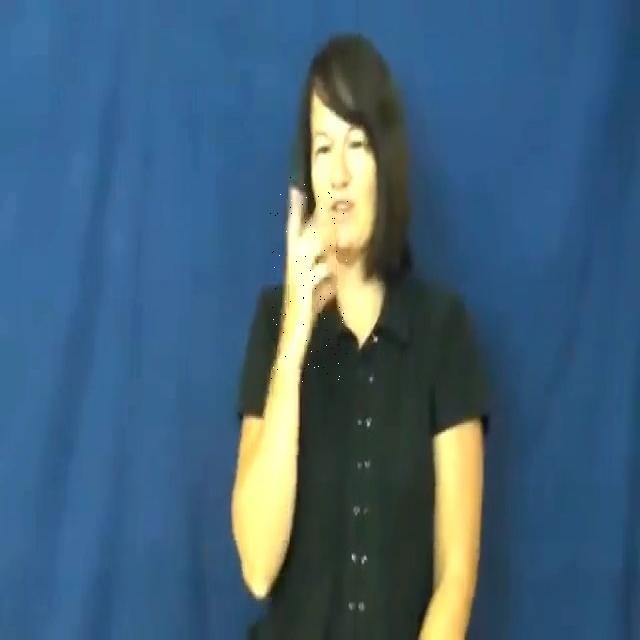hot: (270, 176, 348, 382)
